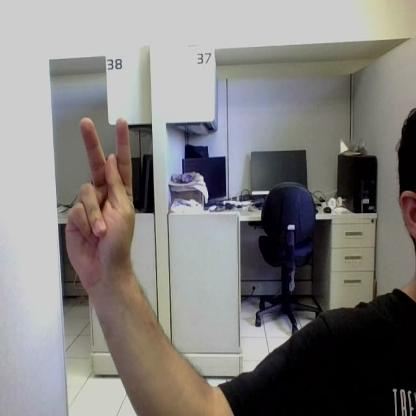K: (66, 116, 134, 282)
